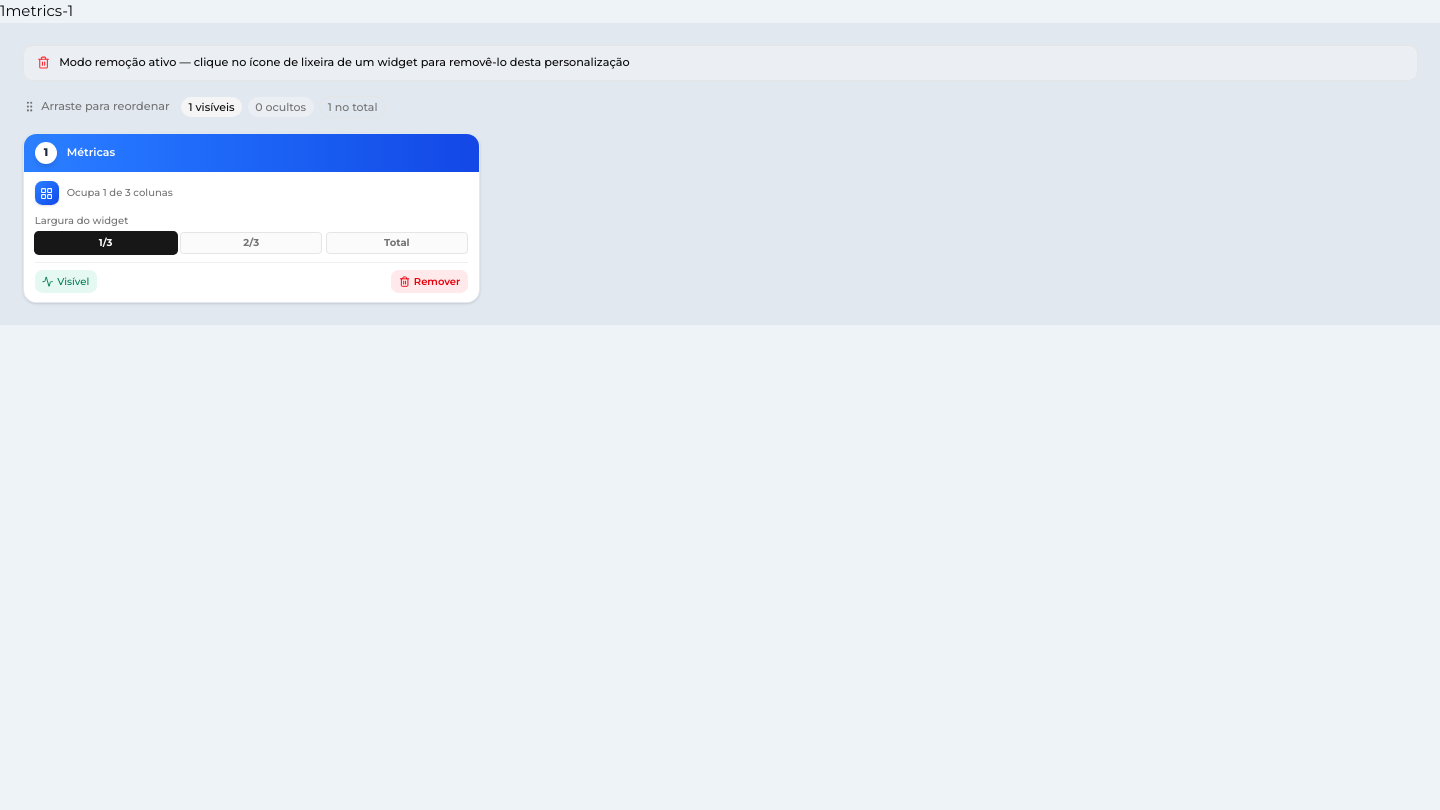
Test: DashboardWidgetEditorBody — remoção de widget (confirmação dupla) › primeira confirmação ('Continuar') ainda não remove
Click the button with aria-label "remover widget métricas".
click(430, 281)  # box [391,270,468,292]
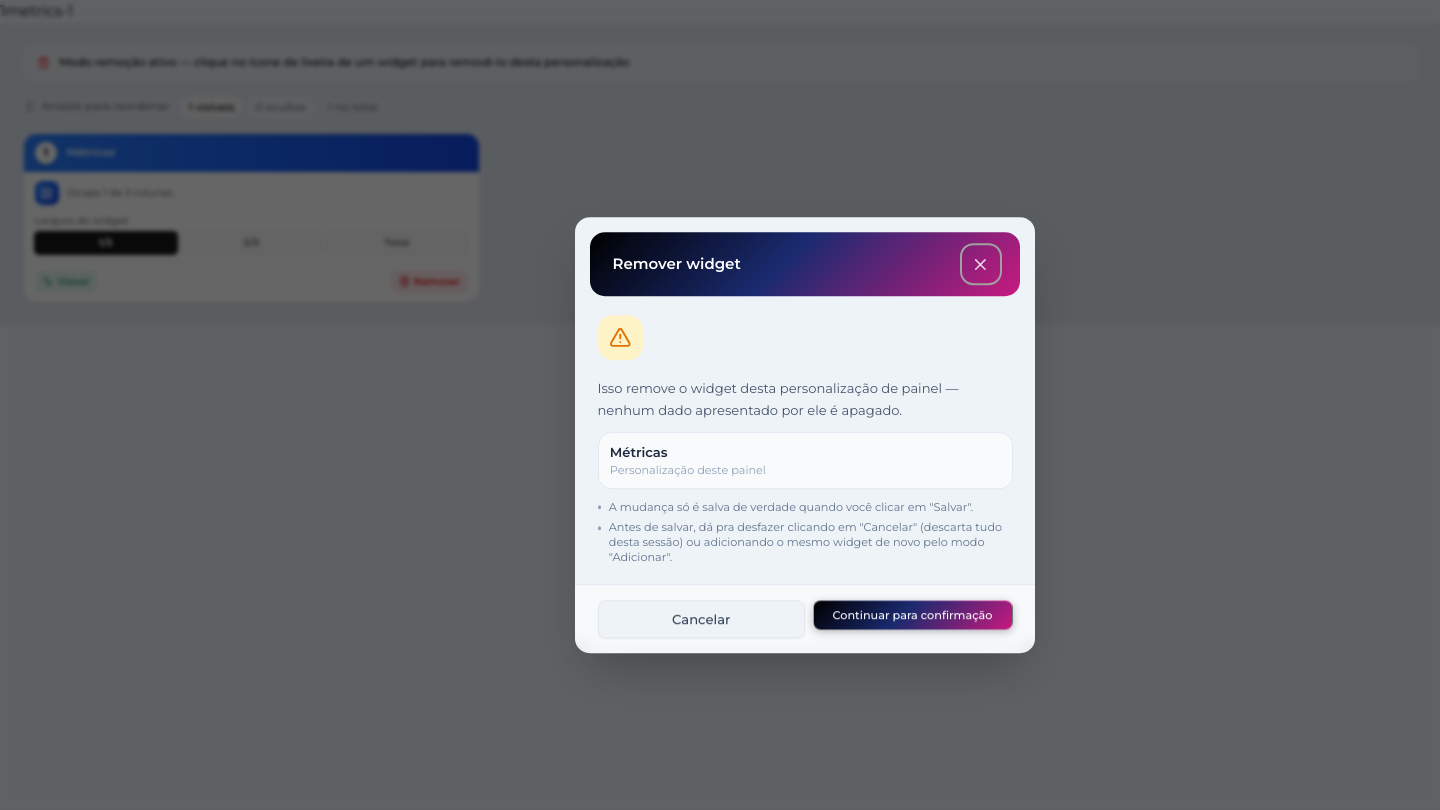
Click the button "Continuar para confirmação".
click(912, 615)  # box [812,600,1012,630]
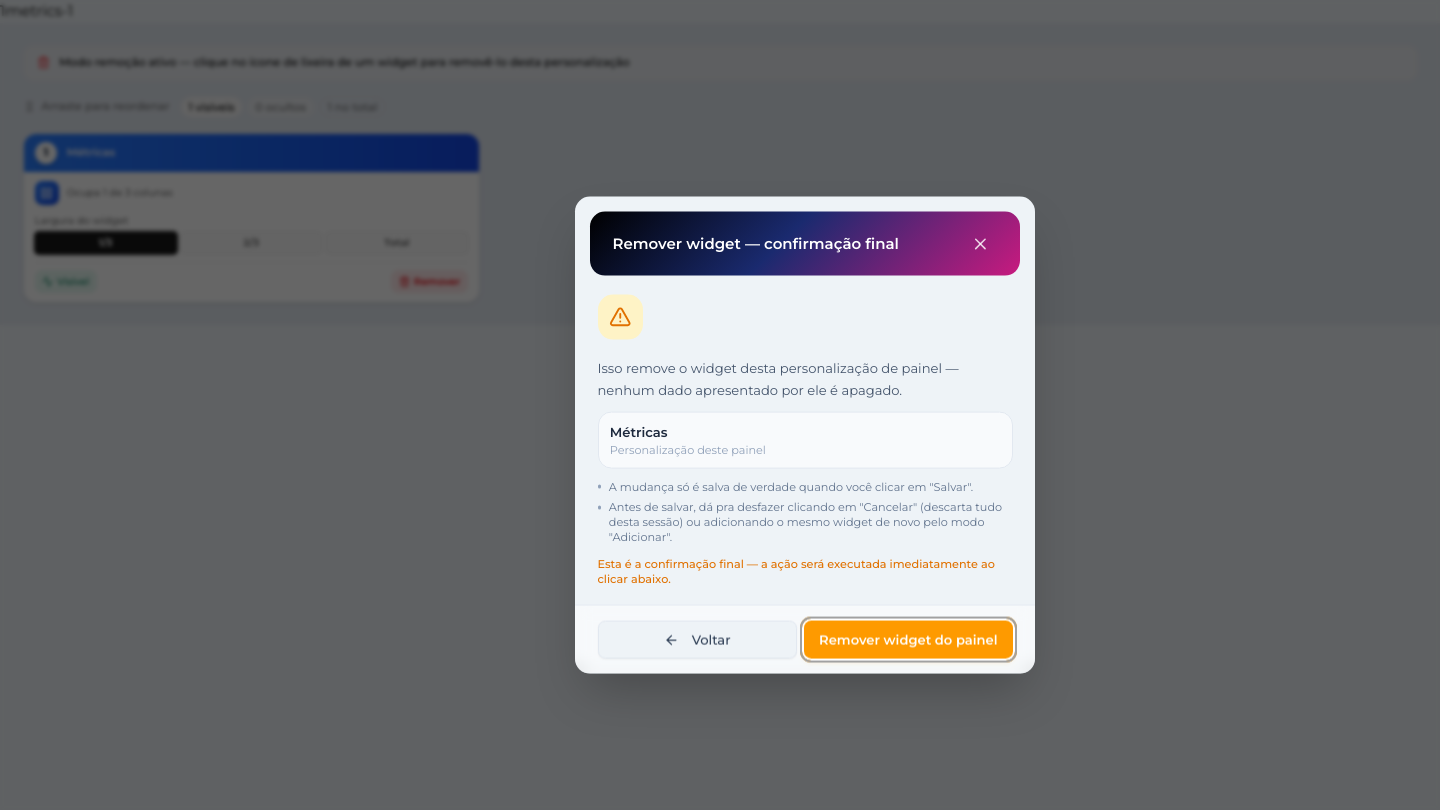
Expected: the text with test id "draft-count" reads "1", [0,1,5,20]
Result: the button "Remover widget do painel" is shown at [804,621,1012,658]
